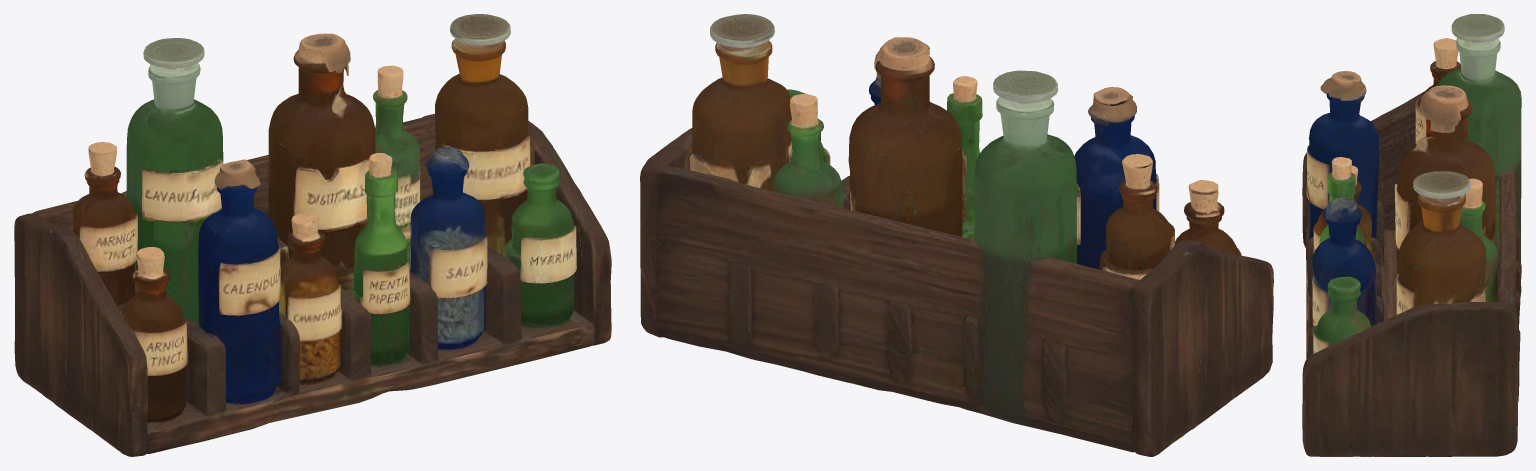
The model's file is apothecary.glb.
The picture shows the model from 3 angles, left to right: view 1: azimuth 30°, elevation 25°; view 2: azimuth 150°, elevation 25°; view 3: azimuth 270°, elevation 25°; orthographic projection. The views are drawn at different scales.
Visible parts, largest first — view 1: Mesh_0; view 2: Mesh_0; view 3: Mesh_0.
Boxes of the visible parts, x1,y1,x2,y2 form: Mesh_0: (14, 14, 611, 456); Mesh_0: (640, 14, 1273, 456); Mesh_0: (1302, 14, 1521, 456).
Bounding box in the file's own units: 1.9 × 1.16 × 0.8209.
1 material, 1 textured.
